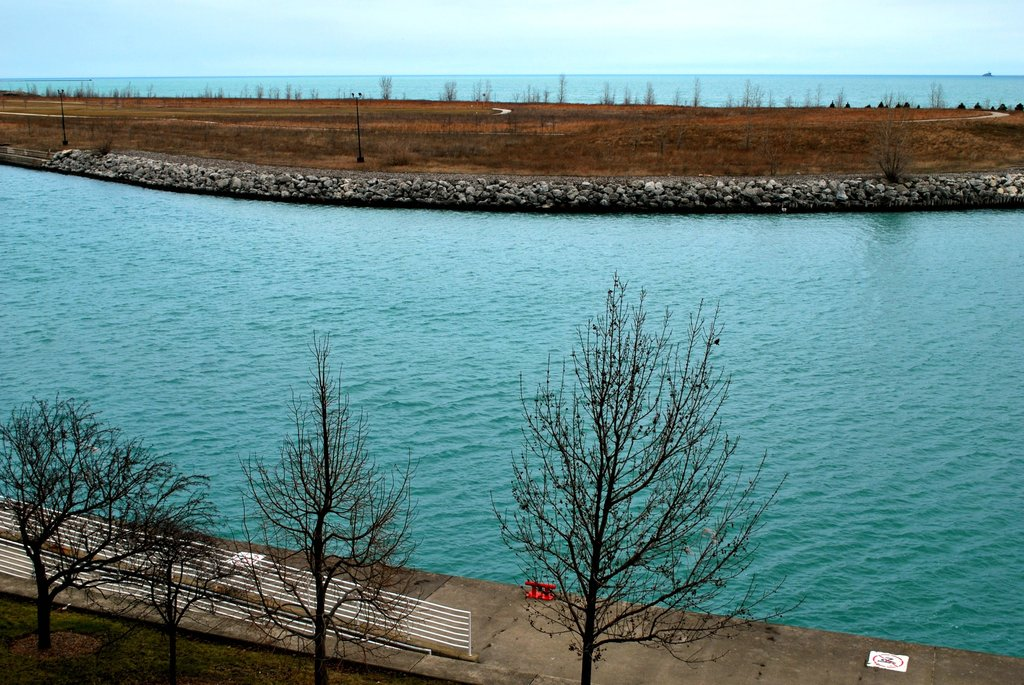Tree: (496, 265, 752, 665), (233, 318, 418, 684), (0, 389, 158, 645), (120, 456, 239, 684)
